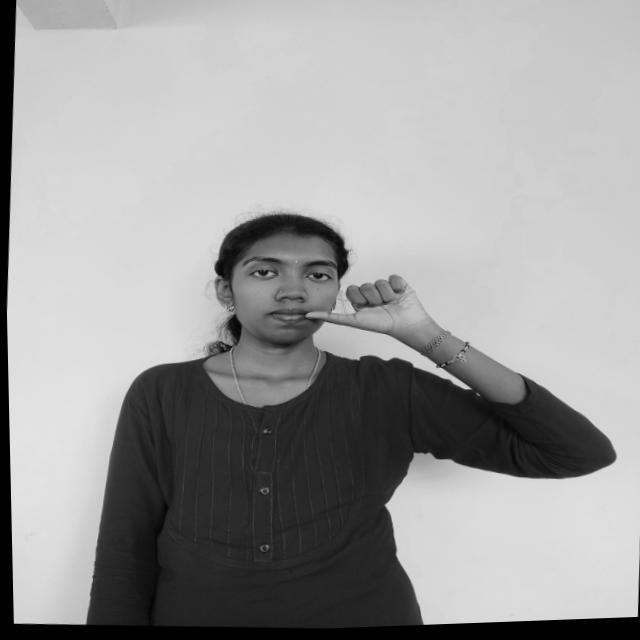Drink: (293, 269, 444, 352)
